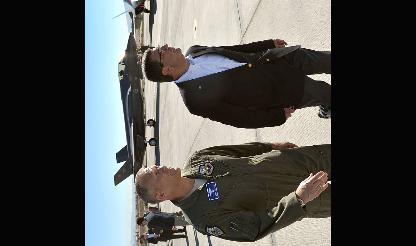F18: (110, 0, 153, 42)
F22: (113, 29, 156, 185)
